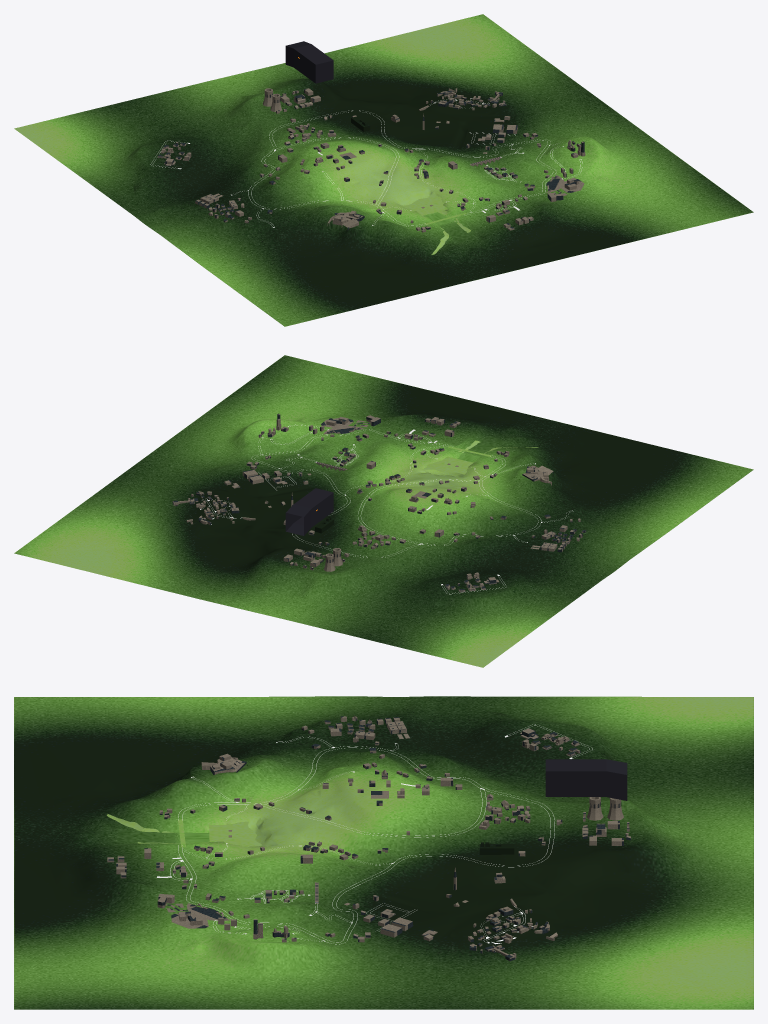
Rendered from free-fire-complete-map.glb.
The picture shows the model from 3 angles, top to bottom: view 1: azimuth 30°, elevation 25°; view 2: azimuth 150°, elevation 25°; view 3: azimuth 270°, elevation 25°; orthographic projection. The views are drawn at different scales.
Parts seen in each view (by area): view 1: NeoParadise_Terrain_0, NeoParadise_Building_LOD4_0, NeoParadise_Building_LOD4_1, Cube, Water_NeoParadise_1, NeoParadise_Terrain_Road_02_UC_0; view 2: NeoParadise_Terrain_0, NeoParadise_Building_LOD4_0, NeoParadise_Building_LOD4_1, Cube, Water_NeoParadise_1, NeoParadise_Terrain_Road_02_UC_0; view 3: NeoParadise_Terrain_0, NeoParadise_Building_LOD4_0, NeoParadise_Building_LOD4_1, Cube, NeoParadise_Terrain_Road_02_UC_0, Water_NeoParadise_1, NeoParadise_RockWall_0.
Boxes of the visible parts, <box> form: NeoParadise_Terrain_0: <box>14,14,753,326</box>; NeoParadise_Building_LOD4_0: <box>157,88,585,232</box>; NeoParadise_Building_LOD4_1: <box>214,88,540,230</box>; Cube: <box>285,41,333,83</box>; Water_NeoParadise_1: <box>402,194,475,243</box>; NeoParadise_Terrain_Road_02_UC_0: <box>150,98,582,227</box>; NeoParadise_Terrain_0: <box>14,355,753,667</box>; NeoParadise_Building_LOD4_0: <box>172,413,586,592</box>; NeoParadise_Building_LOD4_1: <box>224,417,548,571</box>; Cube: <box>285,488,333,535</box>; Water_NeoParadise_1: <box>424,436,507,474</box>; NeoParadise_Terrain_Road_02_UC_0: <box>200,424,573,594</box>; NeoParadise_Terrain_0: <box>14,696,753,1009</box>; NeoParadise_Building_LOD4_0: <box>157,715,629,961</box>; NeoParadise_Building_LOD4_1: <box>107,733,630,942</box>; Cube: <box>545,759,627,800</box>; NeoParadise_Terrain_Road_02_UC_0: <box>157,724,592,944</box>; Water_NeoParadise_1: <box>115,819,261,847</box>; NeoParadise_RockWall_0: <box>107,814,277,847</box>.
Size of the model in its own units: 142 by 19.02 by 142.
Materials: 10 (7 with a texture image).
